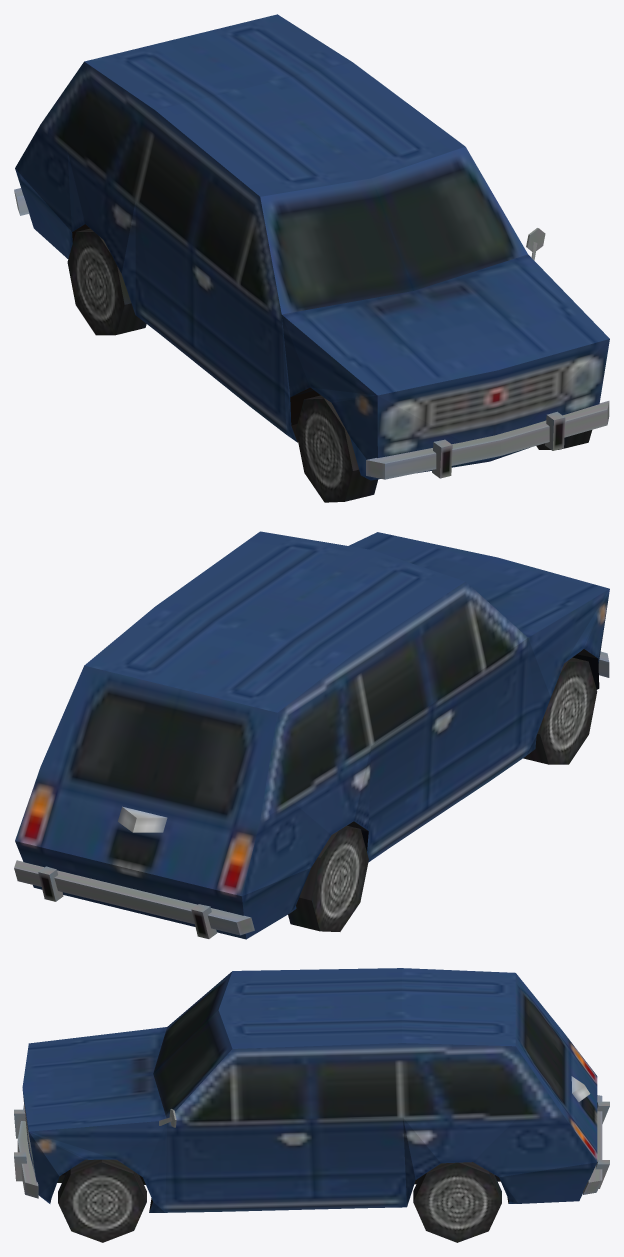
Rendered from car1_blue.glb.
The picture shows the model from 3 angles, top to bottom: view 1: azimuth 30°, elevation 25°; view 2: azimuth 150°, elevation 25°; view 3: azimuth 270°, elevation 25°; orthographic projection. The views are drawn at different scales.
Parts seen in each view (by area): view 1: Car; view 2: Car; view 3: Car.
Boxes of the visible parts, x1,y1,x2,y2 form: Car: (14, 14, 609, 502); Car: (14, 531, 609, 939); Car: (14, 968, 609, 1242).
Bounding box in the file's own units: 2.56 × 2.17 × 6.15.
Materials: 1 (1 with a texture image).
